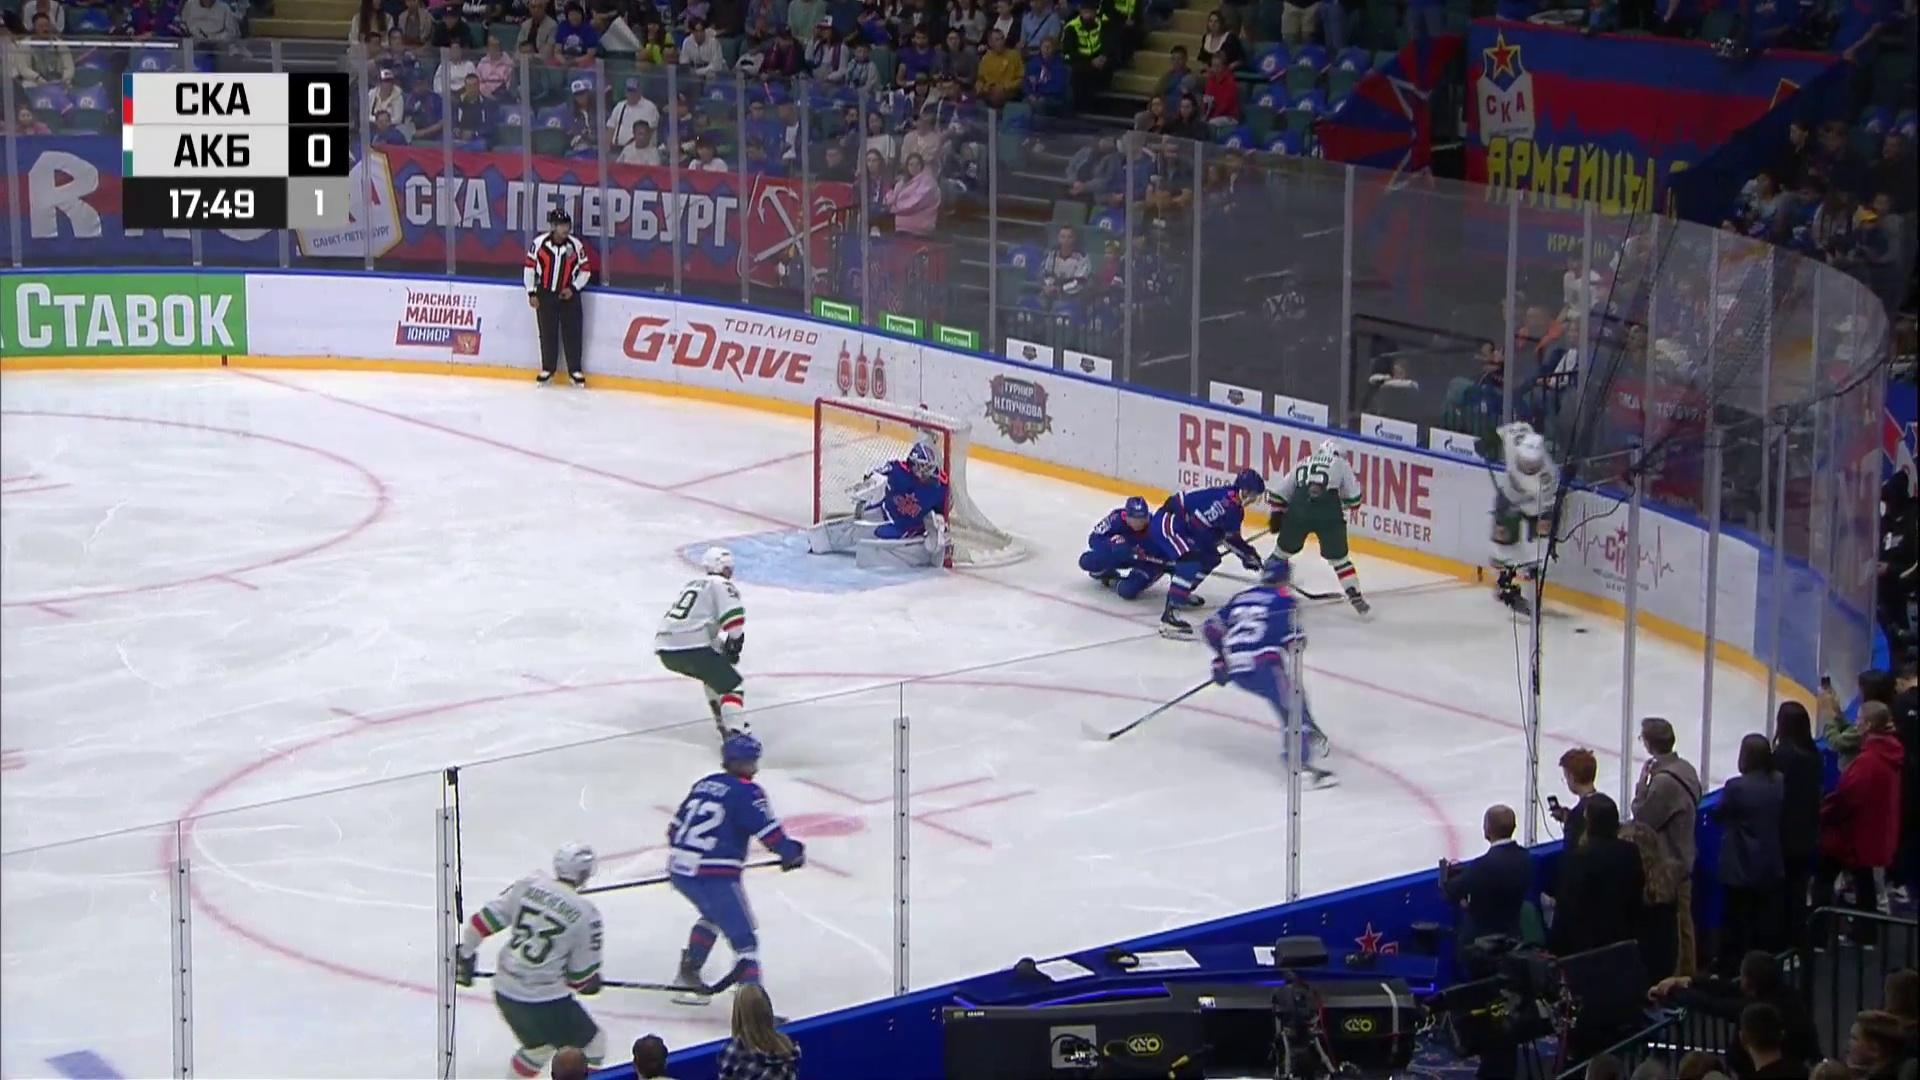ball: (1575, 628, 1586, 636)
